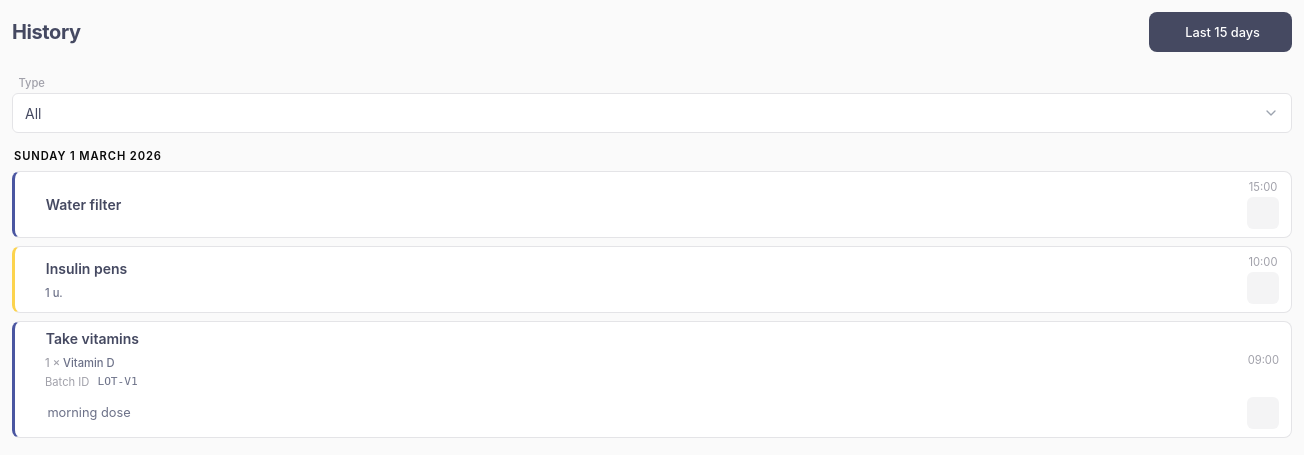
Scenario: HistoryPage — type filter › stock filter appears only when consumptions type is selected
This screenshot has width=1304, height=455.
Expected: the field showing "All items" is not shown
Select "Stock" in the dropdown showing "All" at [652, 113], box [12,93,1292,133]
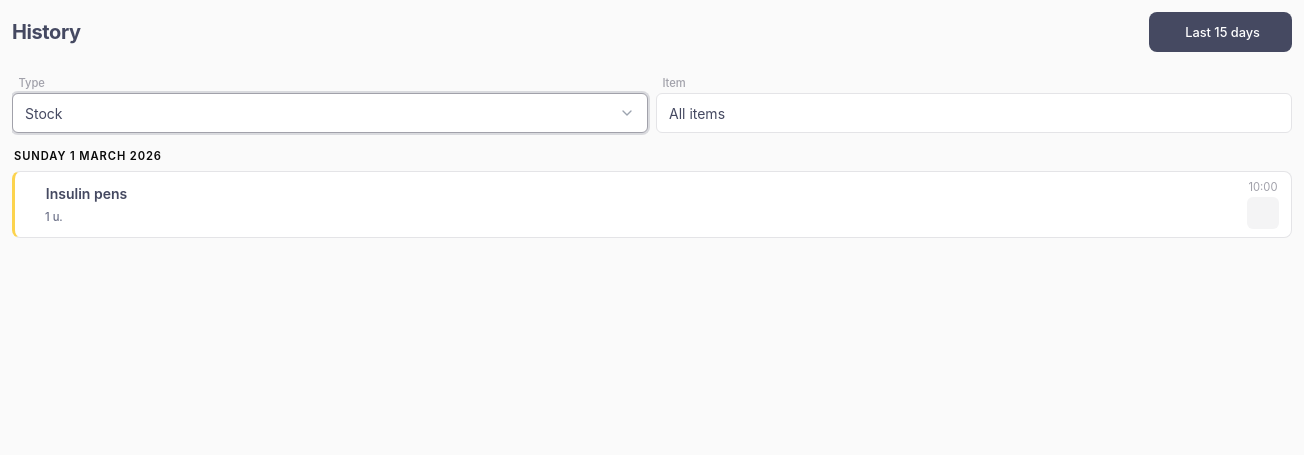
Expected: the dropdown showing "All items" is shown, [656,93,1292,133]
